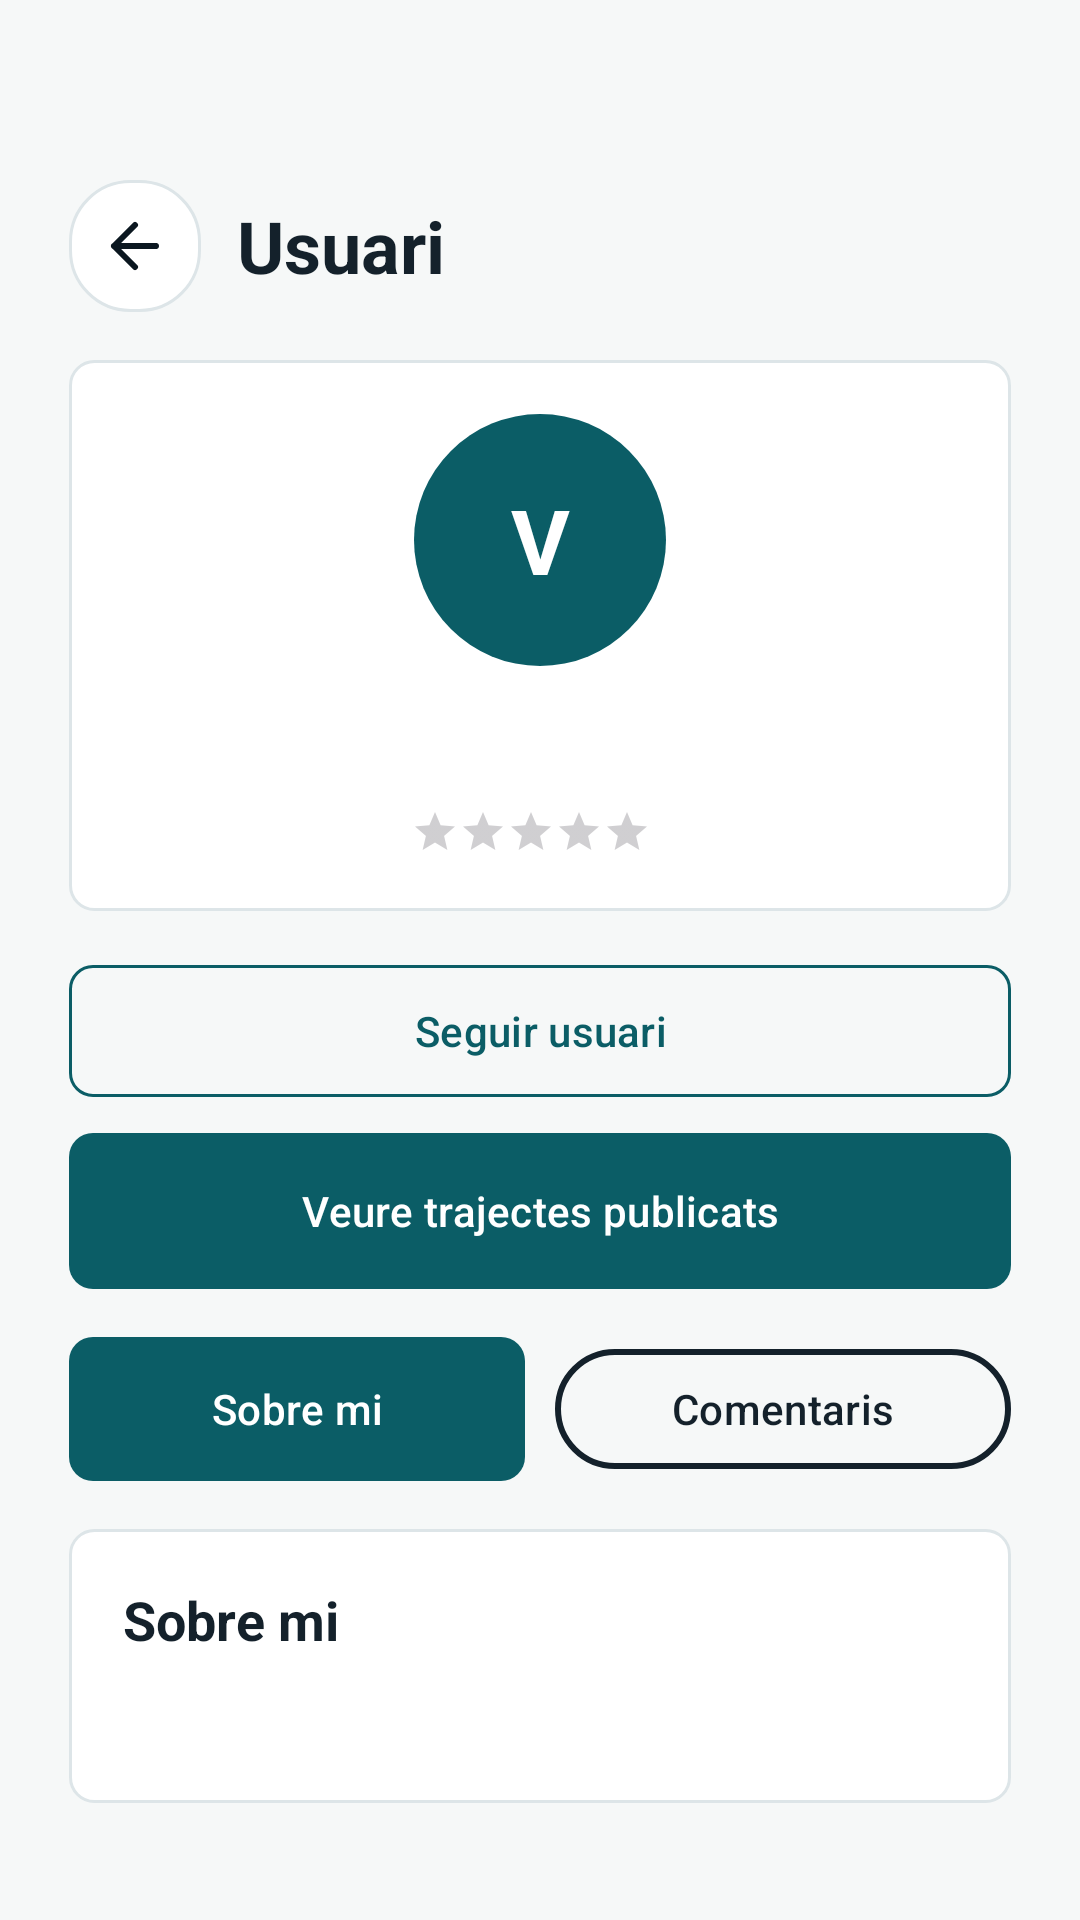

Icon click points for this 1080px×1920px phone screenshot, format (x=x, y=y):
Torna enrere: (x=135, y=246)
